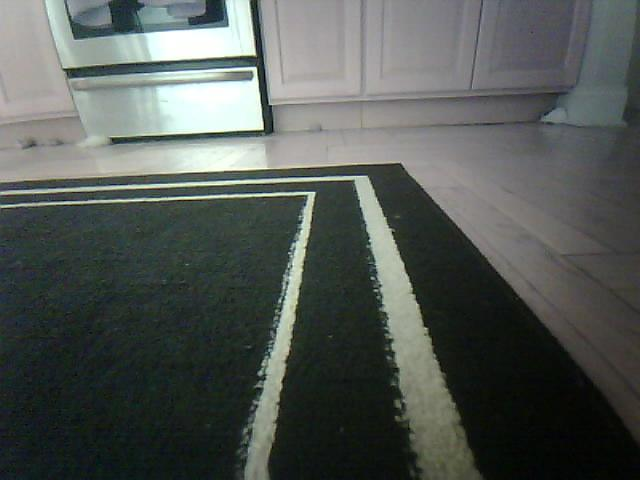curved-road-line: (0, 174, 369, 196), (0, 188, 321, 210)
road-line: (355, 180, 486, 480), (230, 199, 319, 479)
